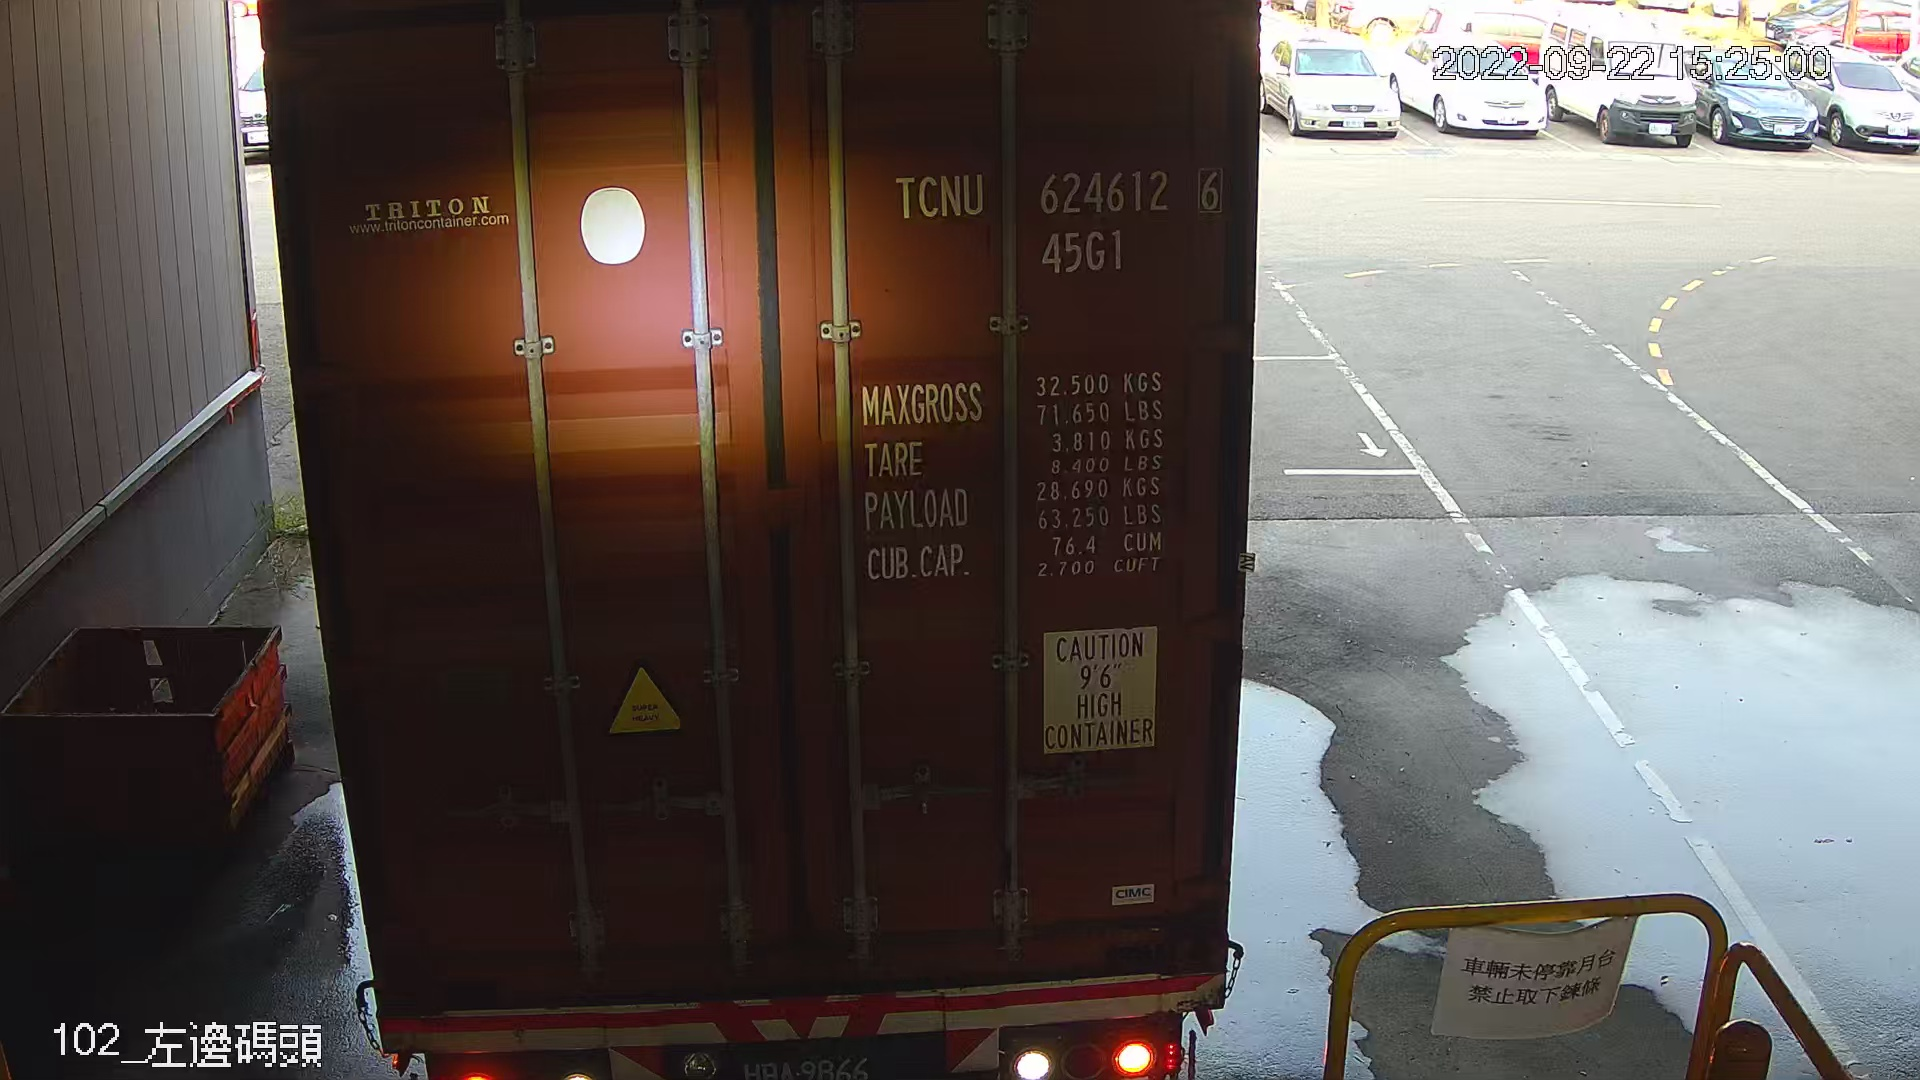container: (882, 164, 1237, 286)
